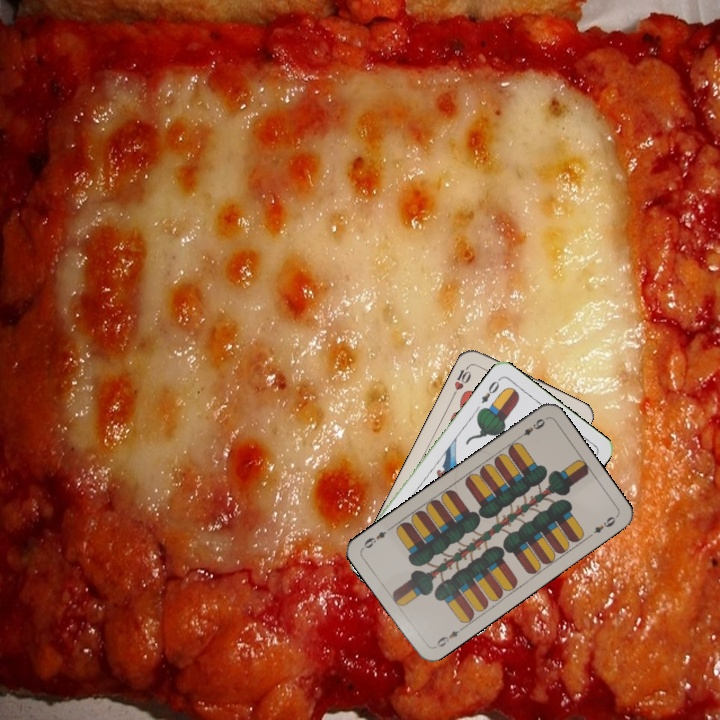E9: (430, 623, 466, 651), (513, 414, 548, 441)
EO: (477, 374, 503, 406)
H10: (449, 360, 474, 398)
